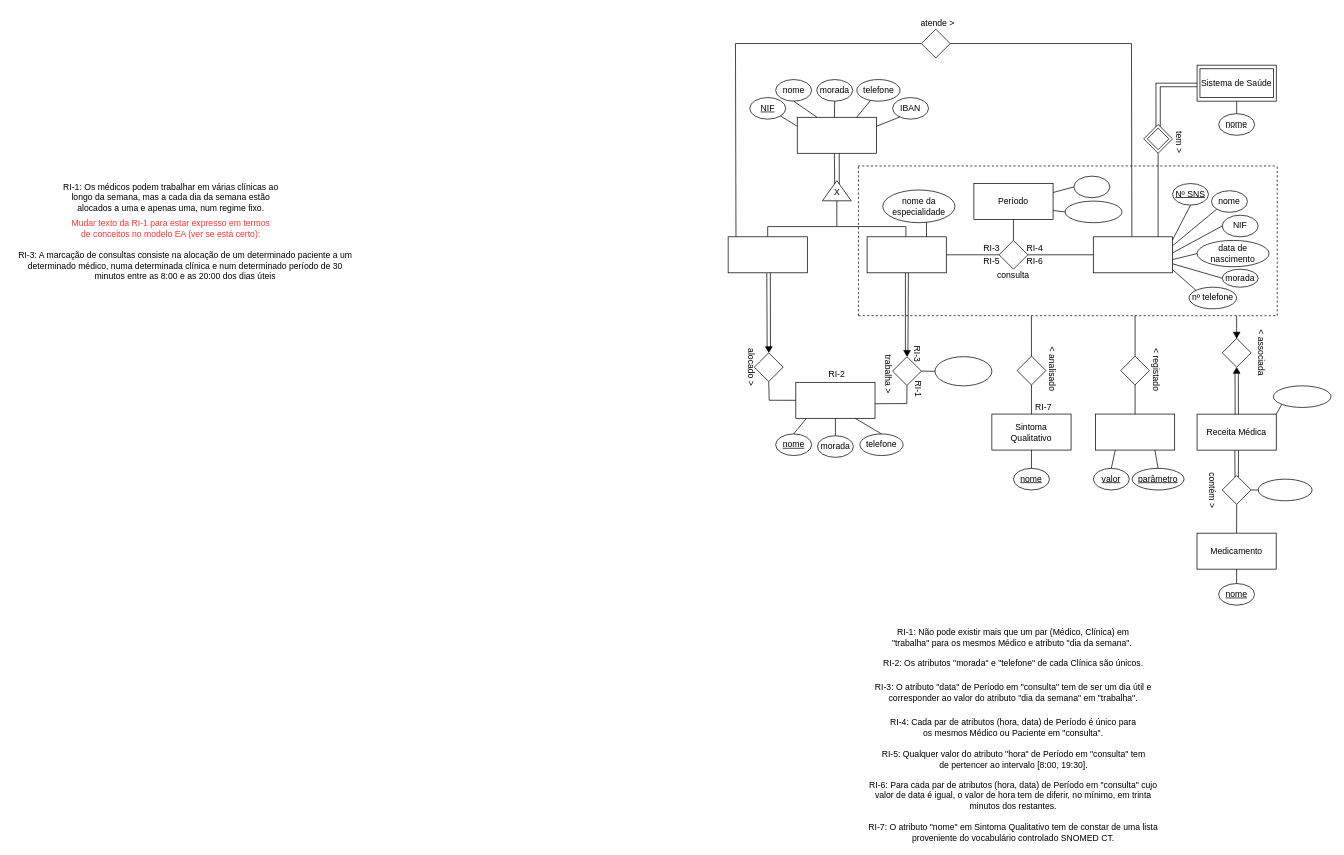
This 1344x855 diagram has some shape labels left out. Here are the shapes that lost their labels. From the top down, the centre of each, then its label:
(x=836, y=135): Profissional de Saúde
(x=1091, y=186): hora
(x=1093, y=211): data
(x=767, y=254): Enfermeiro
(x=906, y=254): Médico
(x=1133, y=254): Paciente
(x=963, y=371): dia da semana
(x=835, y=400): Clínica
(x=1302, y=396): Código SNS
(x=1135, y=431): Sintoma Quantitativo
(x=1284, y=489): quantidade
